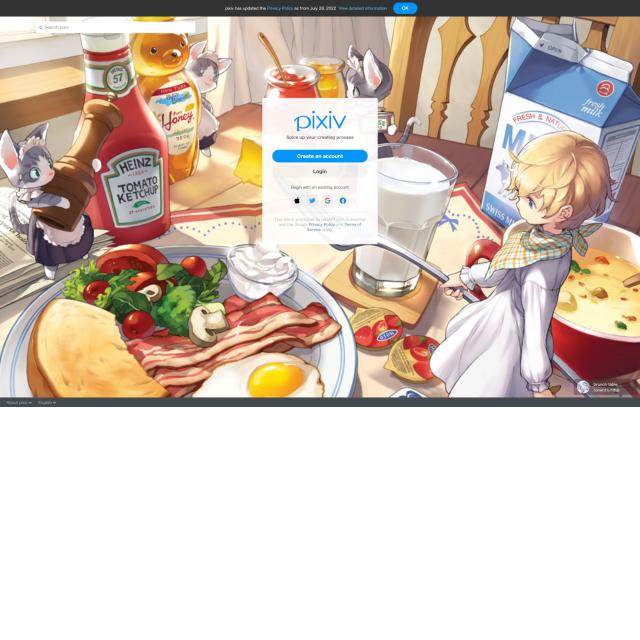input: (36, 21, 196, 34)
logo: (292, 108, 348, 133)
